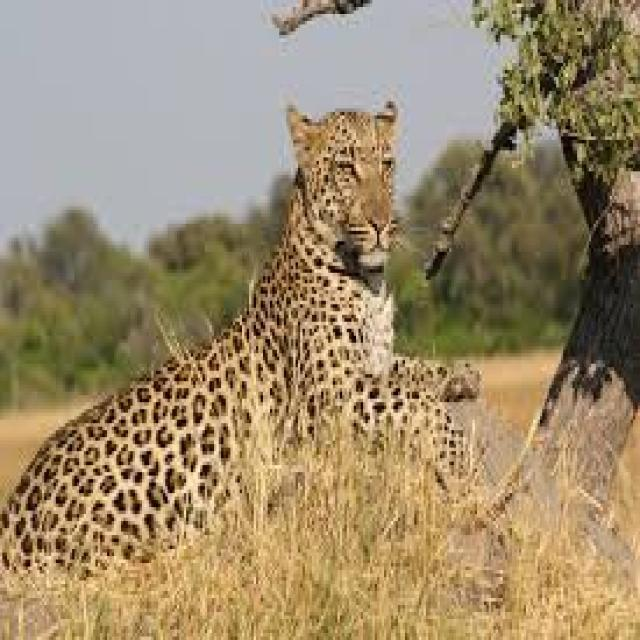Leopard: (0, 97, 424, 582)
